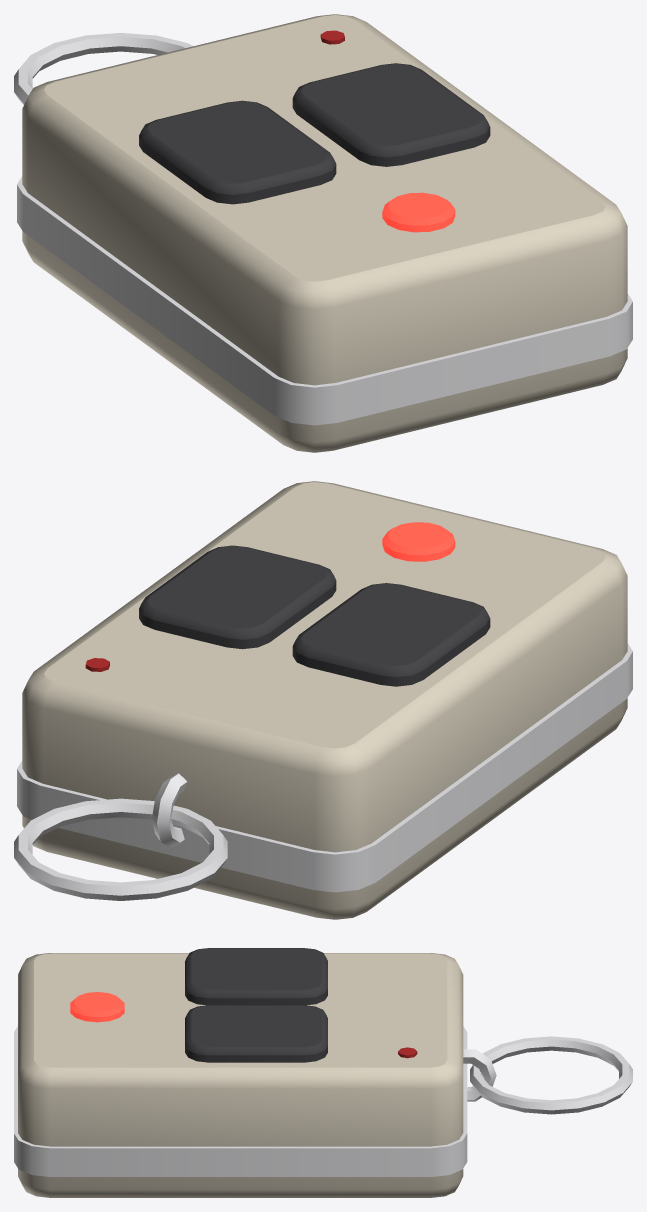
Rendered from nz_keyfob_retro.glb.
3 views of the same model, one above another, from view 1: azimuth 30°, elevation 25°; view 2: azimuth 150°, elevation 25°; view 3: azimuth 270°, elevation 25° (orthographic). The views are drawn at different scales.
Visible parts, largest first — view 1: nz_keyfob_retro; view 2: nz_keyfob_retro; view 3: nz_keyfob_retro.
Part boxes in pixels (box(x1,y1,x2,y2)): nz_keyfob_retro: box(14, 14, 632, 452); nz_keyfob_retro: box(14, 481, 632, 919); nz_keyfob_retro: box(14, 948, 632, 1197).
Size of the model in its own units: 0.039 by 0.0198 by 0.0778.
